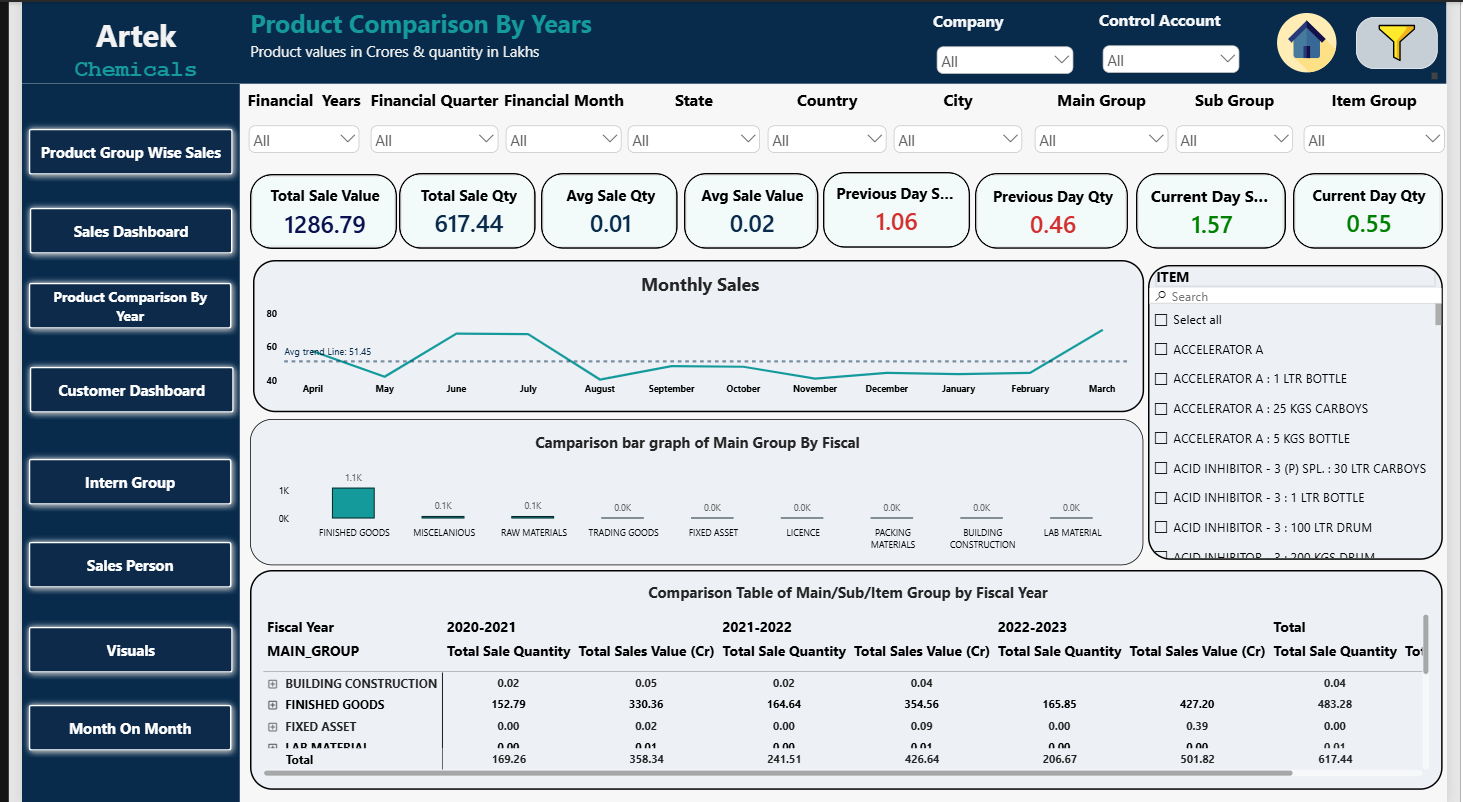

The dashboard page shown, as its layout file describes it:
{"tool":"powerbi","page":{"name":"Product Comparison by Year","canvas":[1920,1080],"ordinal":3},"visuals":[{"type":"shape","box":[0,110.4,292.8,969.6],"z":0},{"type":"shape","box":[0,0,1918.3,110],"z":1000},{"type":"cardVisual","fields":{"Data":["FactSales.Total Quantity"]},"box":[508,230.4,184,102.4],"z":2000},{"type":"cardVisual","fields":{"Data":["FactSales.Avg Sale Quantity"]},"box":[699.2,230.4,184,102.4],"z":3000},{"type":"cardVisual","fields":{"Data":["FactSales.Avg Sale Value"]},"box":[891,230,180.8,102.4],"z":4000},{"type":"textbox","title":"Product Comparison By Years","box":[292.8,0,1614.1,109.8],"z":5000},{"type":"cardVisual","fields":{"Data":["FactSales.Previous Day Qty (Lakh)"]},"box":[1284,230.4,206.4,102.4],"z":6000},{"type":"textbox","title":"Artek","box":[0,0,306.9,108.9],"z":7000},{"type":"cardVisual","fields":{"Data":["FactSales.Current Day Sale (Cr)"]},"box":[1500,230.4,201.6,102.4],"z":8000},{"type":"pivotTable","title":"Comparison Table of Main/Sub/Item Group by Fiscal Year","fields":{"Columns":["Calendar.Fiscal Year"],"Rows":["FactSales.MAIN_GROUP","FactSales.SUB_GROUP","FactSales.ITEM_GROUP"],"Values":["FactSales.Total Sale Quantity","FactSales.Total Sales Value (Cr)"]},"box":[307.2,764.8,1606.4,296],"z":9000},{"type":"cardVisual","fields":{"Data":["FactSales.Current Day Qty (Lakh)"]},"box":[1712,230.4,201.6,102.4],"z":10000},{"type":"slicer","fields":{"Values":["FactSales.ITEM"]},"box":[1516.8,353.6,396.8,396.8],"z":11000},{"type":"slicer","title":"Control Account","fields":{"Values":["FactSales.CONTROL_ACCOUNT"]},"box":[1449.8,10,194.3,90],"z":12000},{"type":"slicer","title":"State","fields":{"Values":["FactSales.Area Name"]},"box":[811.1,116.8,188.1,89.6],"z":13000},{"type":"lineChart","title":"Monthly Sales","fields":{"Category":["Calendar.Month Name"],"Y":["FactSales.Total Sale Quantity"]},"box":[310.4,347.2,1200,205],"z":14000},{"type":"slicer","title":"Company","fields":{"Values":["FactSales.COMPANY"]},"box":[1226.7,10.3,194.3,90],"z":15000},{"type":"slicer","title":"Country","fields":{"Values":["FactSales.LOCATIONNAME"]},"box":[999.2,116.8,170.1,89.6],"z":16000},{"type":"clusteredColumnChart","title":"Camparison bar graph of Main Group By Fiscal ","fields":{"Category":["FactSales.MAIN_GROUP"],"Y":["FactSales.Total Sales Value (Cr)"]},"box":[307.2,561.6,1203.2,196.8],"z":17000},{"type":"slicer","title":"City","fields":{"Values":["FactSales.CITY"]},"box":[1169.3,116.8,183.2,89.6],"z":18000},{"type":"actionButton","title":"Product Group wise Sales","box":[0,161.6,292.8,80],"z":19000},{"type":"actionButton","title":"Product Group wise Sales","box":[1.3,268,291.2,80],"z":20000},{"type":"cardVisual","fields":{"Data":["FactSales.Previous Day Sale (Cr)"]},"box":[1079,228.8,198.4,102.4],"z":21000},{"type":"actionButton","title":"Product Group wise Sales","box":[0,369,291.2,80],"z":22000},{"type":"slicer","title":"Financial Quarter","fields":{"Values":["Calendar.Fiscal Quarter"]},"box":[464.4,116.8,181.6,89.6],"z":23000},{"type":"actionButton","title":"Product Group wise Sales","box":[1.3,482.1,292.8,80],"z":24000},{"type":"slicer","title":"Financial Month","fields":{"Values":["Calendar.Month Name"]},"box":[645.9,116.8,166.3,90.4],"z":25000},{"type":"actionButton","title":"Product Group wise Sales","box":[0,606,291.2,80],"z":26000},{"type":"slicer","title":"Financial  Years","fields":{"Values":["Calendar.Fiscal Year"]},"box":[300.8,116.8,159.2,90.4],"z":27000},{"type":"actionButton","title":"Product Group wise Sales","box":[0,717.8,291.2,80],"z":28000},{"type":"actionButton","title":"Product Group wise Sales","box":[0,832.2,292.8,80],"z":29000},{"type":"actionButton","title":"Product Group wise Sales","box":[0,937.3,291.2,80],"z":30000},{"type":"image","box":[1663.3,15,133.3,80],"z":31000},{"type":"cardVisual","fields":{"Data":["FactSales.Total Sales Value (Cr)"]},"box":[307.2,232,198.4,100.8],"z":32000},{"type":"slicer","title":"Item Group","fields":{"Values":["FactSales.ITEM_GROUP"]},"box":[1720.4,116.8,199.6,89.6],"z":33000},{"type":"slicer","title":"Main Group","fields":{"Values":["FactSales.MAIN_GROUP"]},"box":[1358.9,116.8,189.7,89.6],"z":34000},{"type":"slicer","title":"Sub Group","fields":{"Values":["FactSales.SUB_GROUP"]},"box":[1548.7,116.8,168.5,89.6],"z":35000},{"type":"image","box":[1796.7,20,109.8,69.5],"z":36000}]}

Visuals, with their boxes on the page's 1920x1080 design canvas (x1, y1, x2, y2). These are canvas units, not pixel positions in the 1463x802 screenshot, which may show the page scaled, cropped or inside an application window:
shape: <box>0,110,293,1080</box>
shape: <box>0,0,1918,110</box>
cardVisual - FactSales.Total Quantity: <box>508,230,692,333</box>
cardVisual - FactSales.Avg Sale Quantity: <box>699,230,883,333</box>
cardVisual - FactSales.Avg Sale Value: <box>891,230,1072,332</box>
"Product Comparison By Years" textbox: <box>293,0,1907,110</box>
cardVisual - FactSales.Previous Day Qty (Lakh): <box>1284,230,1490,333</box>
"Artek" textbox: <box>0,0,307,109</box>
cardVisual - FactSales.Current Day Sale (Cr): <box>1500,230,1702,333</box>
"Comparison Table of Main/Sub/Item Group by Fiscal Year" pivotTable: <box>307,765,1914,1061</box>
cardVisual - FactSales.Current Day Qty (Lakh): <box>1712,230,1914,333</box>
slicer - FactSales.ITEM: <box>1517,354,1914,750</box>
"Control Account" slicer: <box>1450,10,1644,100</box>
"State" slicer: <box>811,117,999,206</box>
"Monthly Sales" lineChart: <box>310,347,1510,552</box>
"Company" slicer: <box>1227,10,1421,100</box>
"Country" slicer: <box>999,117,1169,206</box>
"Camparison bar graph of Main Group By Fiscal " clusteredColumnChart: <box>307,562,1510,758</box>
"City" slicer: <box>1169,117,1352,206</box>
"Product Group wise Sales" actionButton: <box>0,162,293,242</box>
"Product Group wise Sales" actionButton: <box>1,268,292,348</box>
cardVisual - FactSales.Previous Day Sale (Cr): <box>1079,229,1277,331</box>
"Product Group wise Sales" actionButton: <box>0,369,291,449</box>
"Financial Quarter" slicer: <box>464,117,646,206</box>
"Product Group wise Sales" actionButton: <box>1,482,294,562</box>
"Financial Month" slicer: <box>646,117,812,207</box>
"Product Group wise Sales" actionButton: <box>0,606,291,686</box>
"Financial  Years" slicer: <box>301,117,460,207</box>
"Product Group wise Sales" actionButton: <box>0,718,291,798</box>
"Product Group wise Sales" actionButton: <box>0,832,293,912</box>
"Product Group wise Sales" actionButton: <box>0,937,291,1017</box>
image: <box>1663,15,1797,95</box>
cardVisual - FactSales.Total Sales Value (Cr): <box>307,232,506,333</box>
"Item Group" slicer: <box>1720,117,1920,206</box>
"Main Group" slicer: <box>1359,117,1549,206</box>
"Sub Group" slicer: <box>1549,117,1717,206</box>
image: <box>1797,20,1906,90</box>
